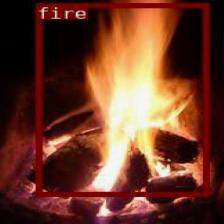fire: (34, 2, 208, 196)
